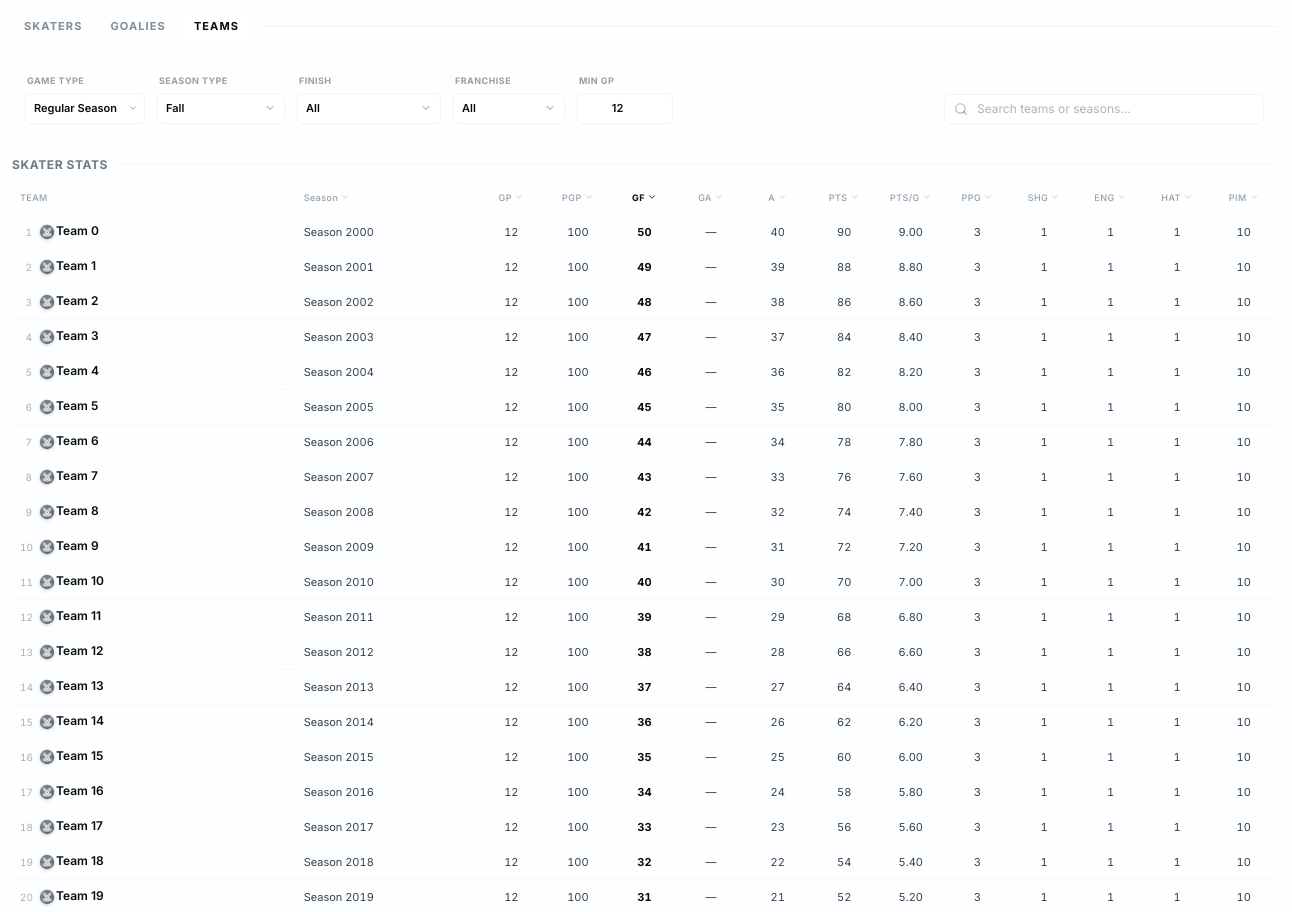
Scenario: StatsTab - Teams View UI › preserves view=teams when selecting Game Type or Season Type in All-Time Teams view
Select "Playoffs" in the dropdown below "Game Type" at (85, 108), box [25,93,145,124]
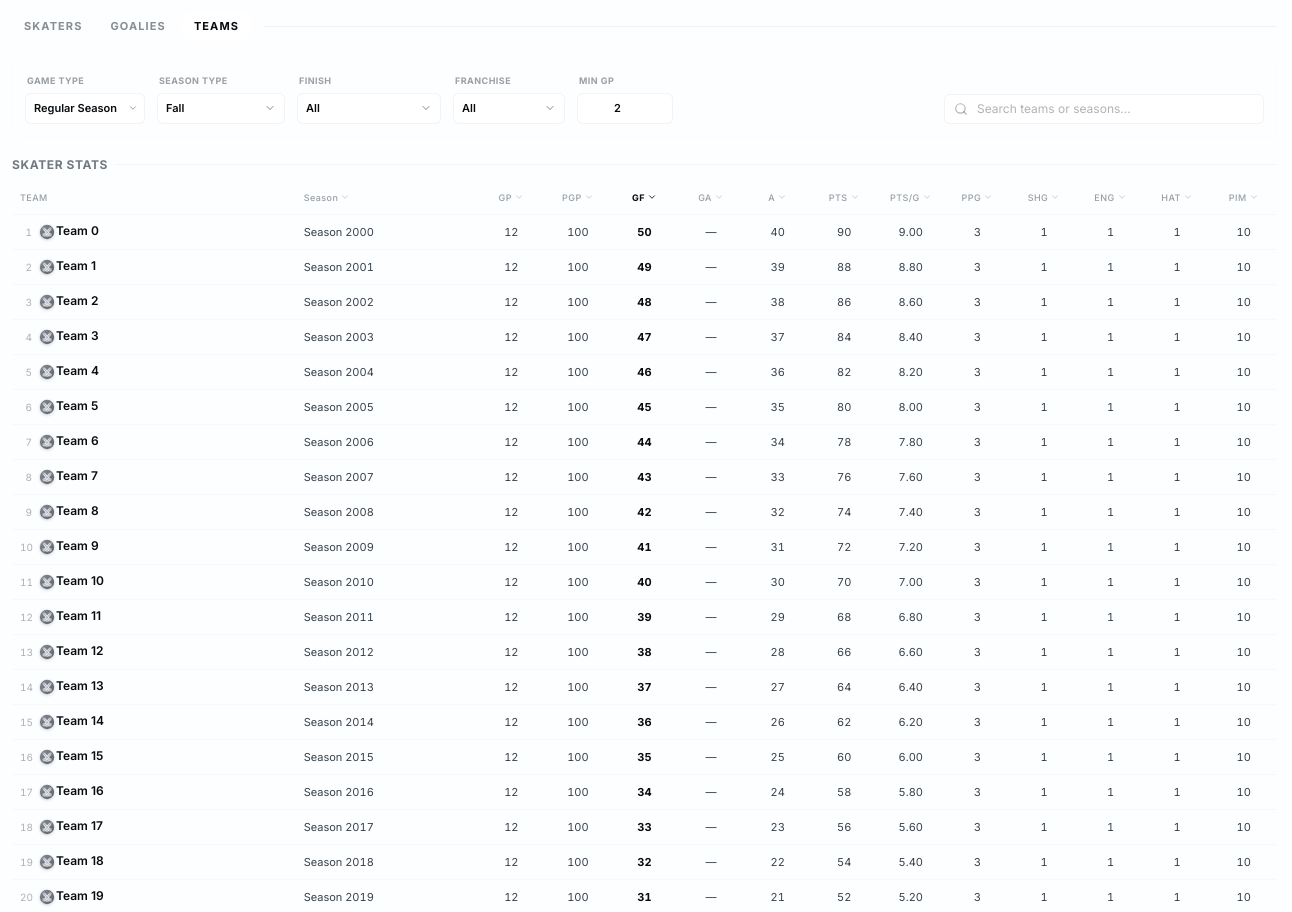
Expected: the number field holds "2", [577,93,673,124]
Select "Summer" in the dropdown below "Season Type" at (221, 108), box [157,93,285,124]
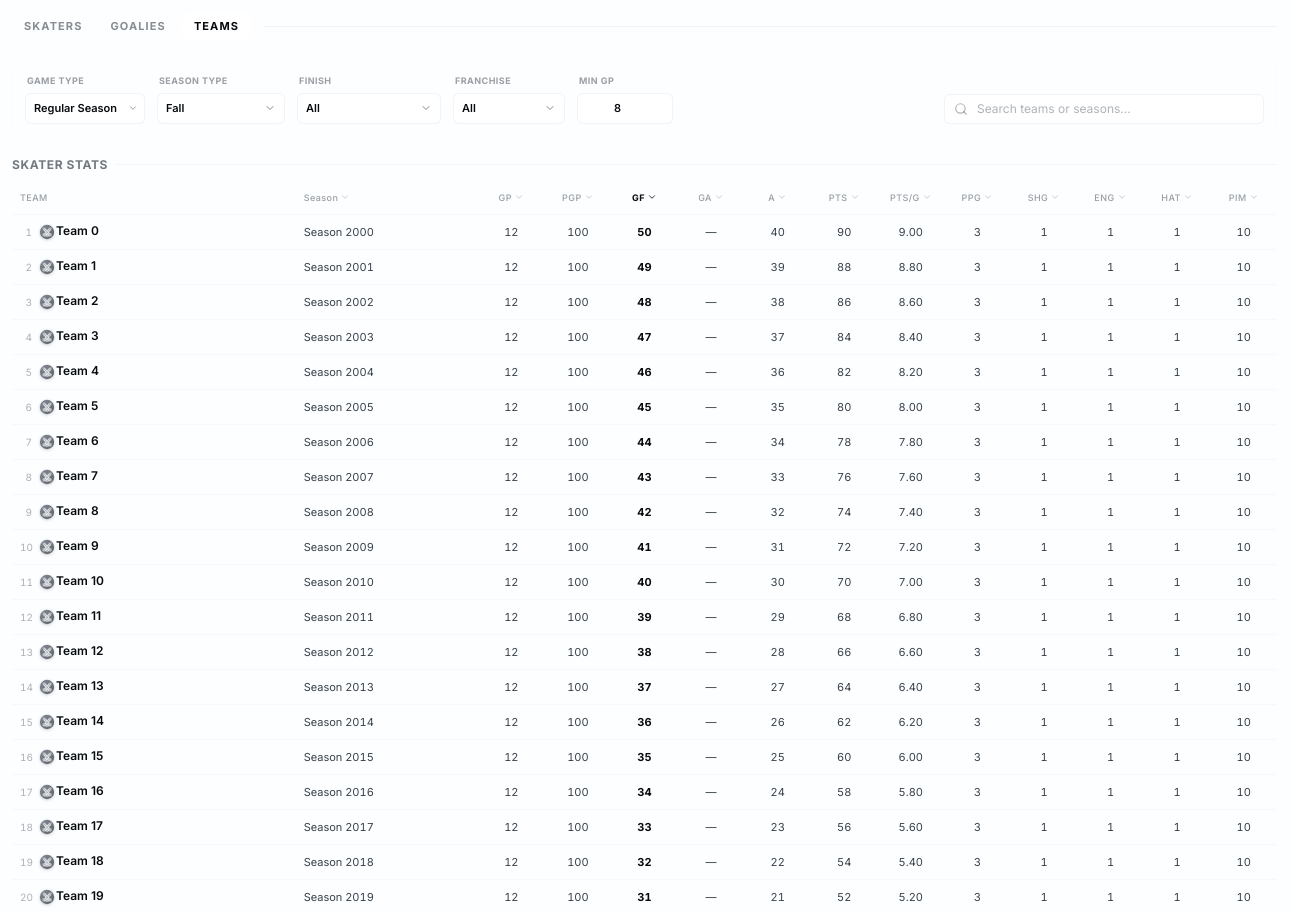
Expected: the number field holds "8", [577,93,673,124]
